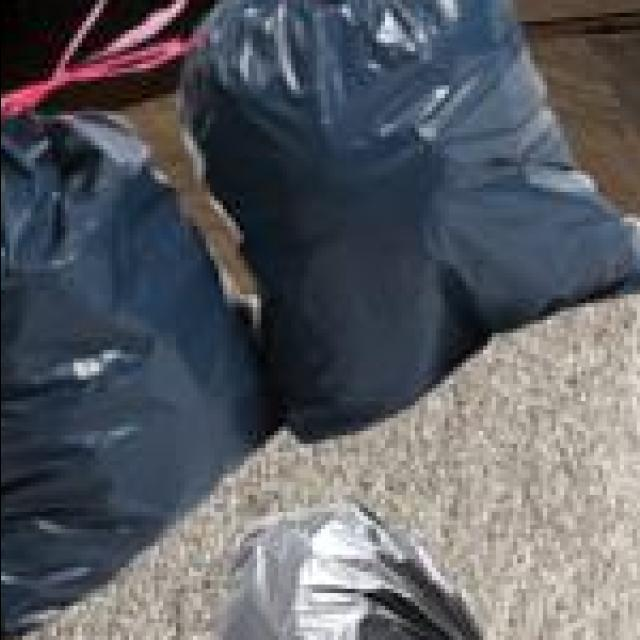Trashbag: (185, 0, 628, 436), (0, 111, 251, 632)
